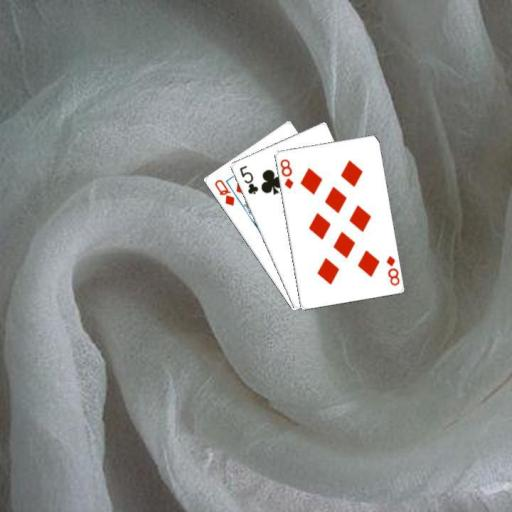5C: (236, 162, 260, 196)
8D: (277, 156, 295, 191), (383, 253, 401, 287)
QD: (211, 176, 236, 208)
